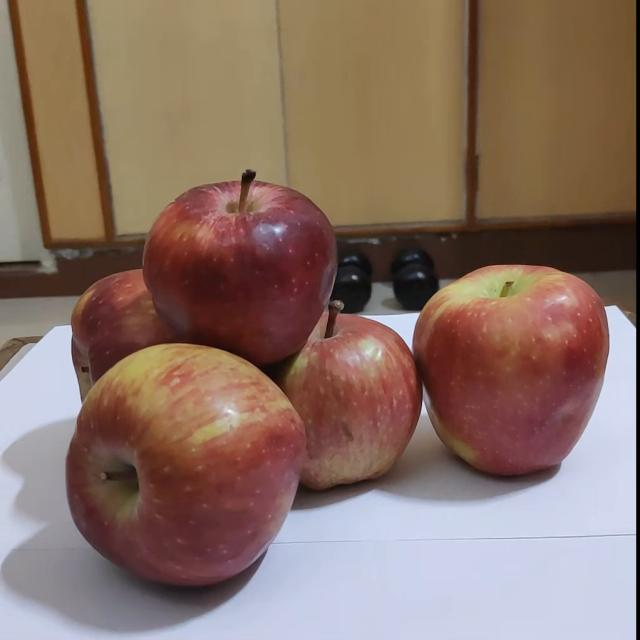apple: (56, 346, 305, 597), (397, 247, 640, 501), (134, 158, 351, 378), (255, 303, 435, 503), (56, 268, 250, 408)
